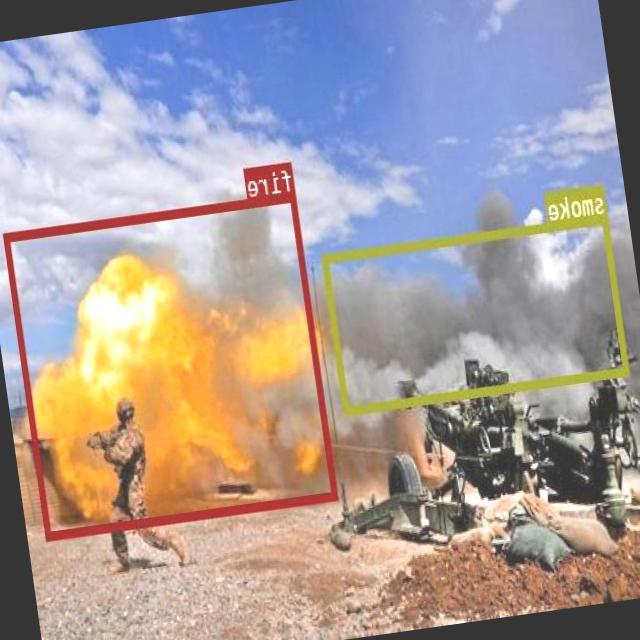fire: (5, 191, 340, 539)
smoke: (323, 213, 631, 414)
